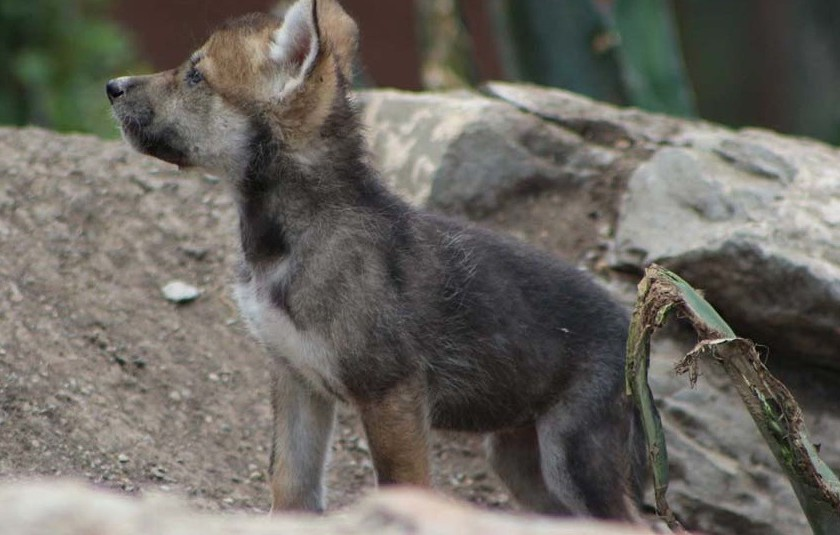Lobo: (93, 16, 717, 512)
